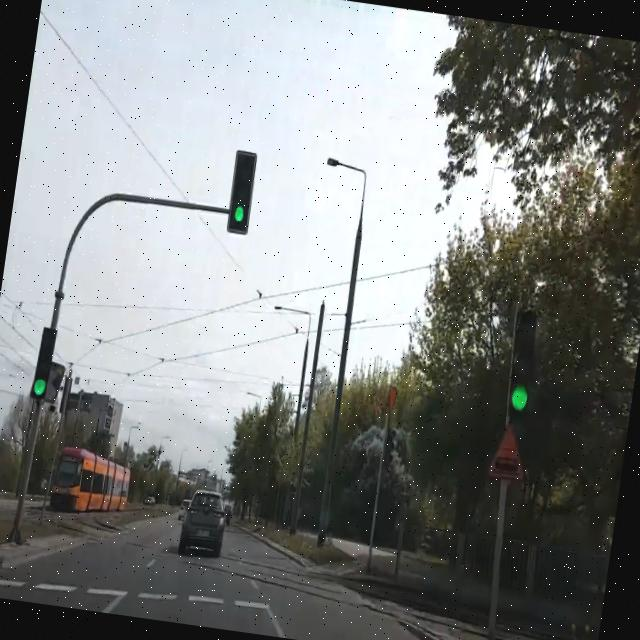Ustap pierwszenstwa: (386, 384, 398, 410)
